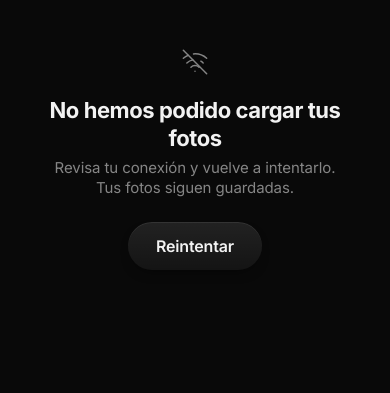
progress photos › shows a retry action when the photo list fails to load
Click the button "Reintentar".
click(195, 246)  # box x1=128 y1=222 x2=262 y2=270
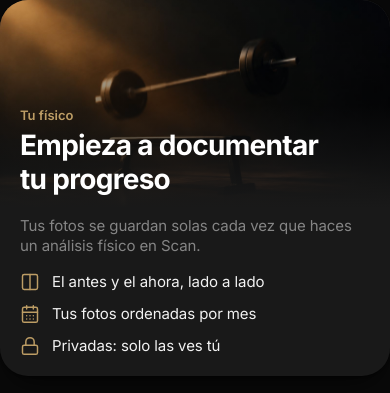
Result: the heading "Empieza a documentar tu progreso" is shown at x1=20 y1=128 x2=370 y2=196
